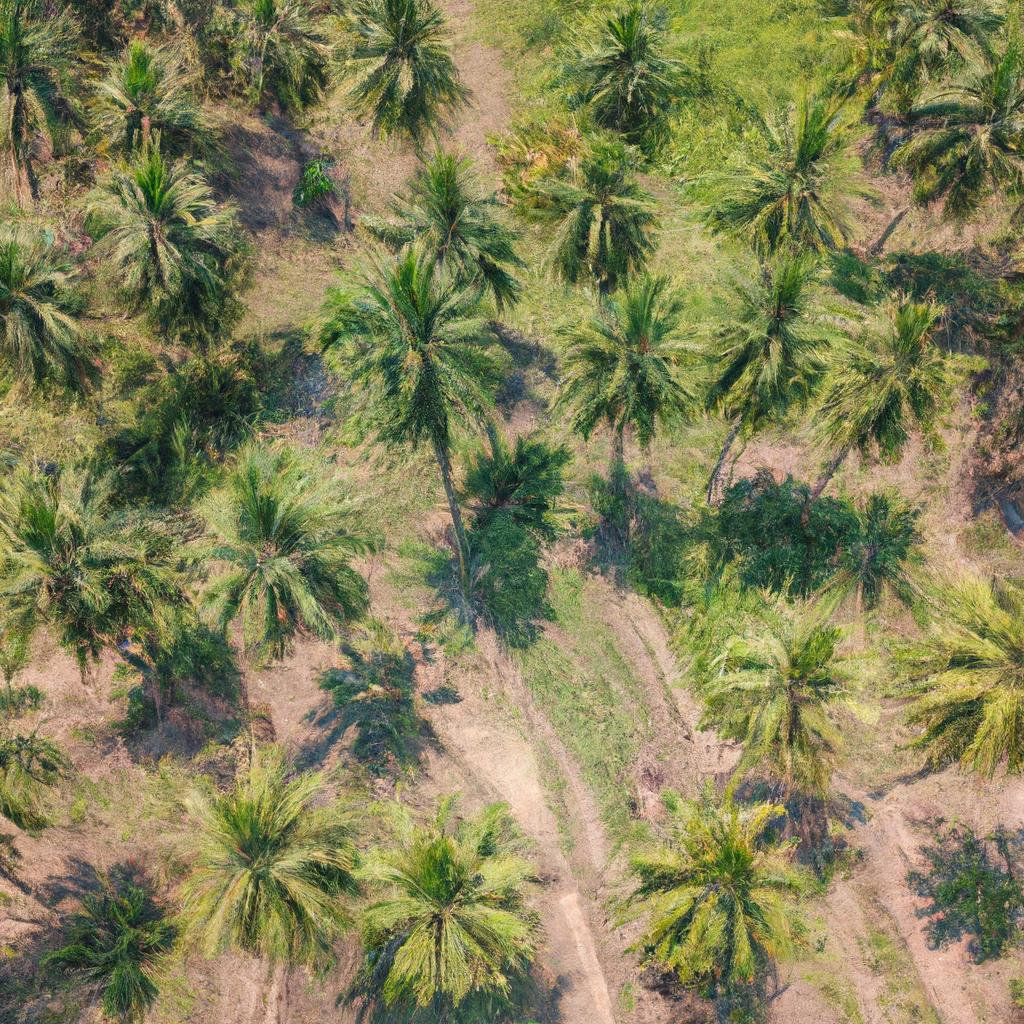coconut_tree: (599, 770, 834, 997), (272, 267, 523, 458), (169, 745, 367, 967), (363, 805, 555, 1002), (191, 467, 372, 643), (700, 581, 870, 753), (0, 466, 164, 640), (78, 153, 254, 296), (562, 274, 704, 445), (528, 126, 672, 282), (707, 86, 858, 234), (704, 239, 818, 426), (337, 0, 484, 116)
